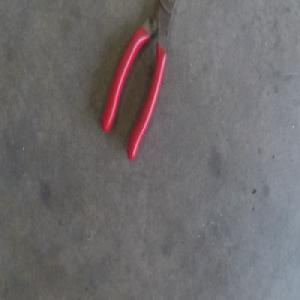Pliers: (101, 0, 176, 162)
